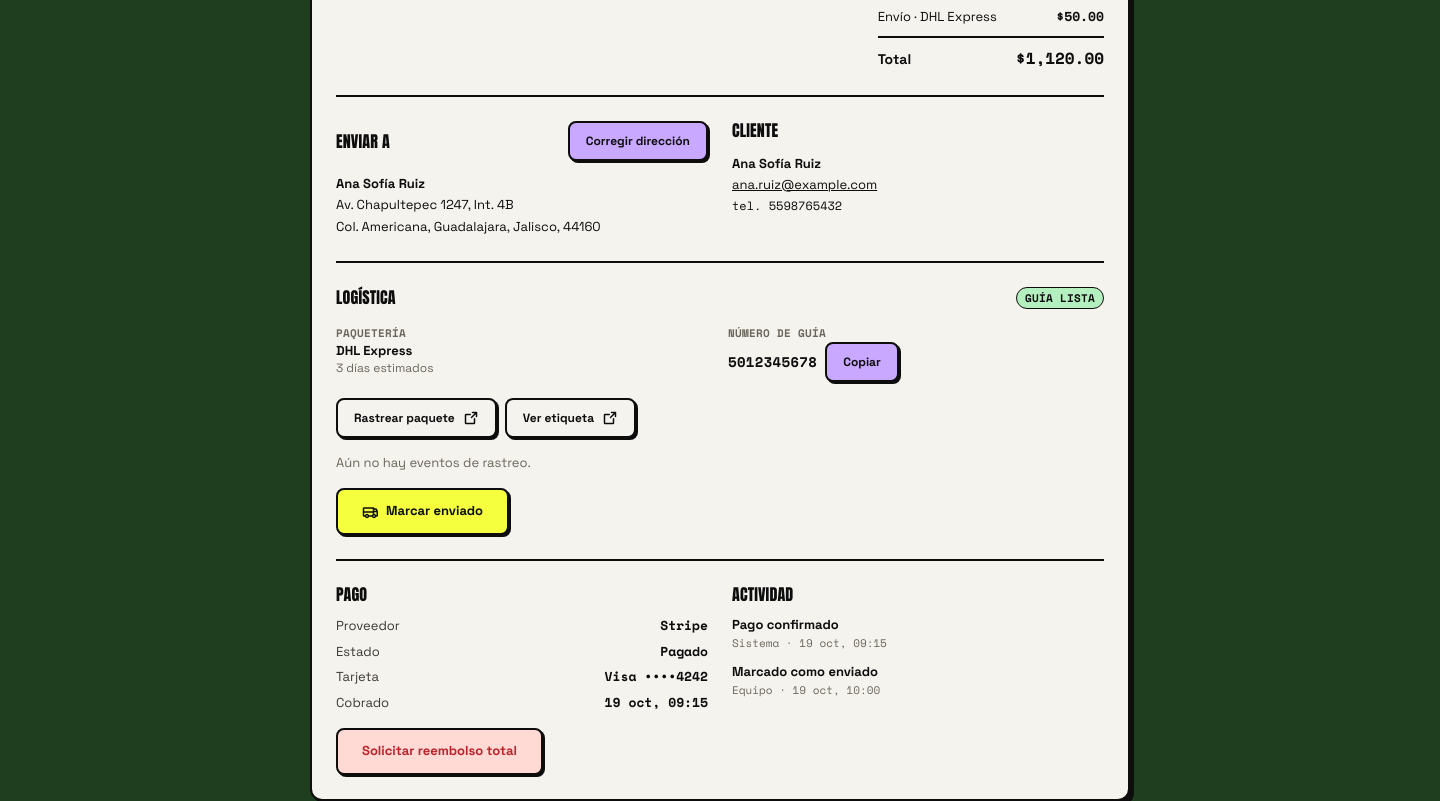
Test: OrderDetail: acciones › un 409 de la API se muestra tal cual y el pedido no cambia
The width and height of the screenshot is (1440, 801).
(page scrolled)
Click the button "Marcar enviado": (422, 512) [336,488,509,535]
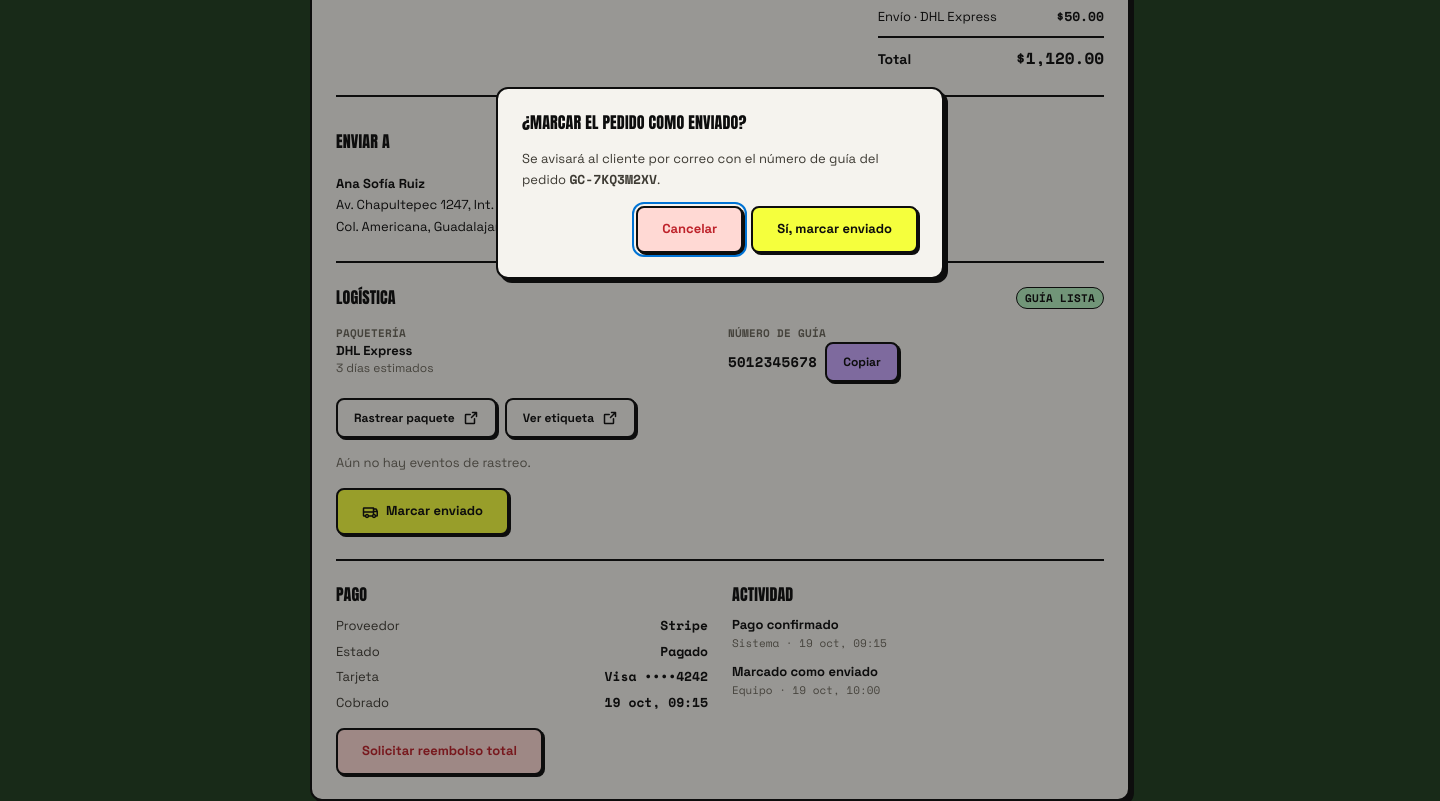
Click the button "Sí, marcar enviado": (835, 230) [751,206,918,253]
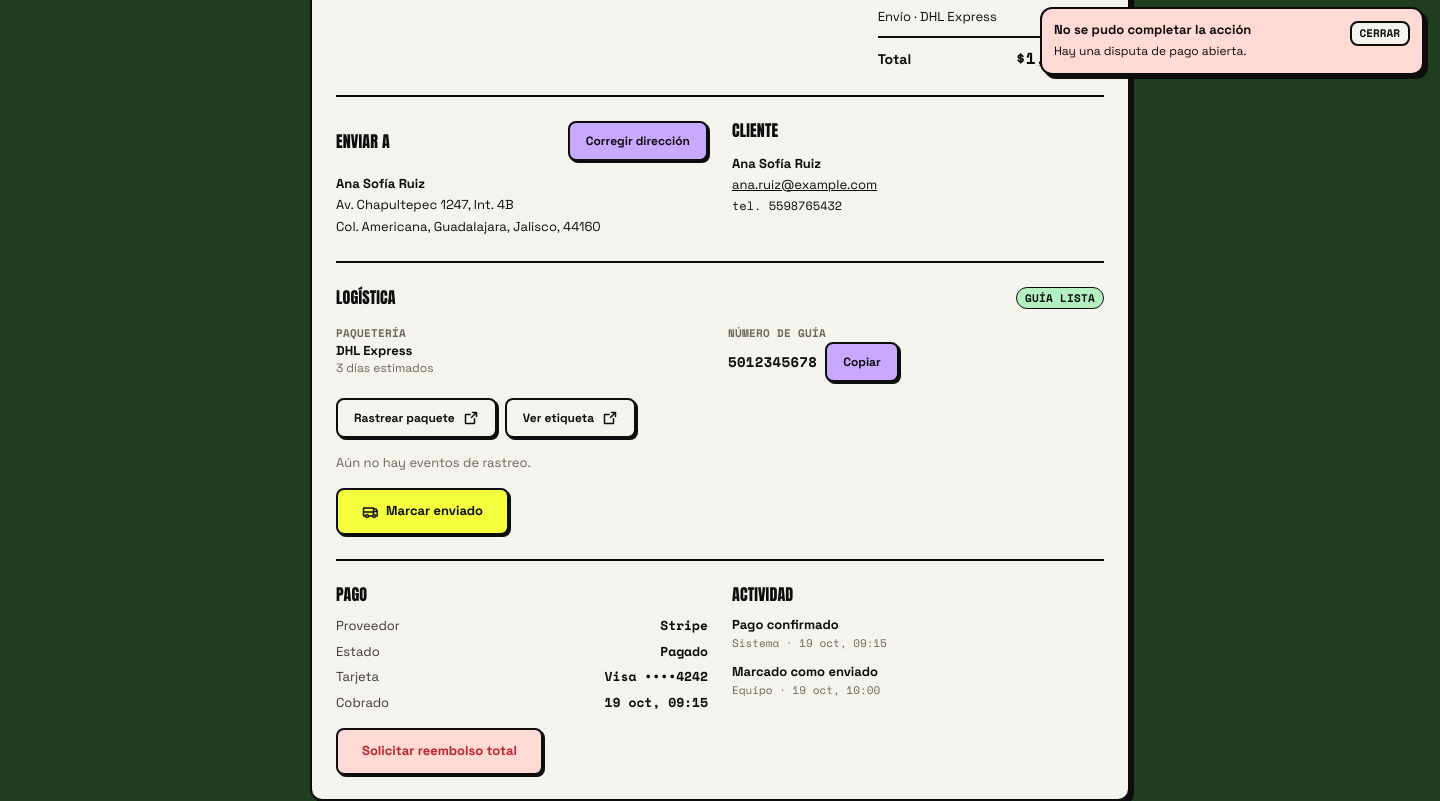
Expected: the button "Marcar enviado" is enabled, [336,488,509,535]
Expected: the message shows "Hay una disputa de pago abierta.", [1054,43,1246,59]
